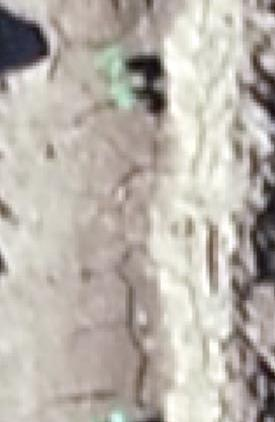cotton: (99, 51, 126, 80), (115, 87, 134, 108)
